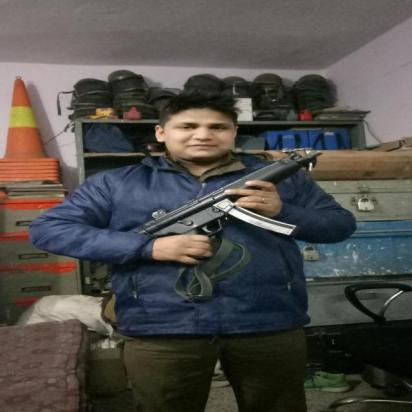Gun: (131, 146, 326, 262)
